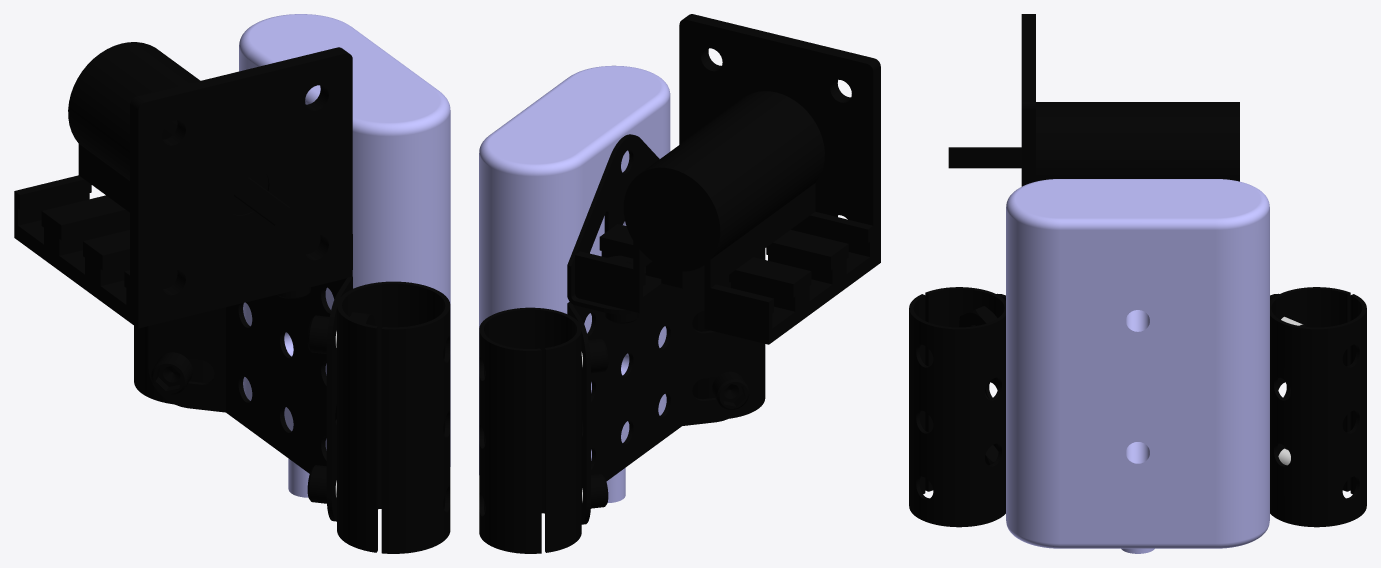
The picture shows the model from 3 angles, left to right: view 1: azimuth 30°, elevation 25°; view 2: azimuth 150°, elevation 25°; view 3: azimuth 270°, elevation 25°; orthographic projection. The views are drawn at different scales.
Parts seen in each view (by area): view 1: cast iron, matte zinc, white-pw-mt11050, matte zinc-4, polished bronze; view 2: cast iron, matte zinc, white-pw-mt11050, matte zinc-4; view 3: white-pw-mt11050, matte zinc, cast iron, polished bronze.
Boxes of the visible parts, left/top/right/bottom form: cast iron: left=14, top=42, right=352, bottom=328; matte zinc: left=134, top=234, right=450, bottom=553; white-pw-mt11050: left=239, top=14, right=450, bottom=497; matte zinc-4: left=148, top=276, right=352, bottom=521; polished bronze: left=234, top=177, right=295, bottom=228; cast iron: left=575, top=14, right=880, bottom=344; matte zinc: left=479, top=134, right=765, bottom=553; white-pw-mt11050: left=479, top=65, right=670, bottom=502; matte zinc-4: left=567, top=273, right=752, bottom=524; white-pw-mt11050: left=1006, top=179, right=1269, bottom=553; matte zinc: left=909, top=287, right=1366, bottom=527; cast iron: left=1021, top=14, right=1239, bottom=186; polished bronze: left=948, top=147, right=1021, bottom=168.
Bounding box in the file's own units: 5.79 × 8.33 × 7.99.
